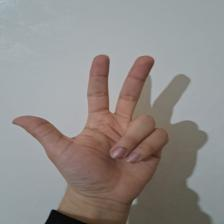three: (14, 54, 174, 198)
